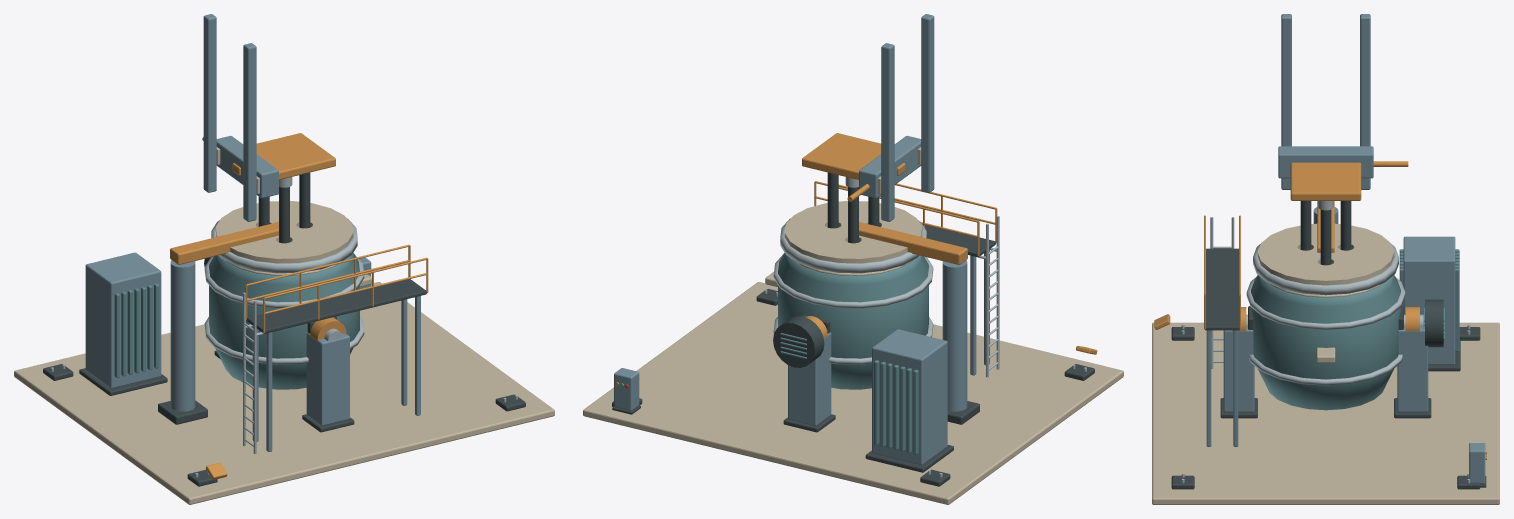
The model's file is STS-PLATE-02-lod1.glb.
The picture shows the model from 3 angles, left to right: view 1: azimuth 30°, elevation 25°; view 2: azimuth 150°, elevation 25°; view 3: azimuth 270°, elevation 25°; orthographic projection.
Visible parts, largest first — view 1: foundation, refractory_vessel, transformer_cabinet, roof_shell, roof_pivot_column, far_pedestal, eaf_service_deck, roof_electrode_guide_0.95, roof_electrode_guide_-0.95, electrode_carrier, roof_swing_arm, electrode_slide_carriage (+11 smaller); view 2: foundation, refractory_vessel, transformer_cabinet, roof_shell, roof_pivot_column, near_pedestal, roof_electrode_guide_-0.95, roof_electrode_guide_0.95, electrode_carrier, tilt_gearbox, roof_swing_arm, roof_water_jacket (+7 smaller); view 3: foundation, refractory_vessel, roof_shell, transformer_cabinet, electrode_carrier, eaf_service_deck, near_pedestal, far_pedestal, electrode_slide_carriage, roof_water_jacket, roof_electrode_guide_-0.95, roof_electrode_guide_0.95 (+10 smaller).
Part boxes in pixels (x1,y1,x2,y2): foundation: (14, 282, 554, 504); refractory_vessel: (209, 253, 359, 389); transformer_cabinet: (85, 252, 161, 388); roof_shell: (215, 201, 353, 263); roof_pivot_column: (170, 260, 195, 411); far_pedestal: (306, 332, 349, 425); eaf_service_deck: (246, 279, 426, 333); roof_electrode_guide_0.95: (243, 43, 256, 221); roof_electrode_guide_-0.95: (203, 14, 216, 192); electrode_carrier: (256, 133, 335, 179); roof_swing_arm: (170, 222, 278, 264); electrode_slide_carriage: (216, 135, 278, 198); foundation: (583, 282, 1123, 504); refractory_vessel: (778, 253, 928, 389); transformer_cabinet: (872, 329, 947, 465); roof_shell: (784, 201, 922, 263); roof_pivot_column: (942, 260, 967, 411); near_pedestal: (788, 332, 831, 425); roof_electrode_guide_-0.95: (881, 43, 894, 221); roof_electrode_guide_0.95: (921, 14, 934, 192); electrode_carrier: (802, 133, 881, 179); tilt_gearbox: (773, 316, 824, 367); roof_swing_arm: (859, 222, 967, 264); roof_water_jacket: (780, 218, 926, 273); foundation: (1152, 322, 1499, 504); refractory_vessel: (1251, 275, 1400, 410); roof_shell: (1257, 223, 1394, 285); transformer_cabinet: (1403, 236, 1455, 364); electrode_carrier: (1290, 162, 1361, 200); eaf_service_deck: (1205, 248, 1239, 330); near_pedestal: (1397, 327, 1428, 412); far_pedestal: (1223, 327, 1254, 412); electrode_slide_carriage: (1278, 146, 1373, 178); roof_water_jacket: (1253, 244, 1398, 295); roof_electrode_guide_-0.95: (1360, 14, 1370, 189); roof_electrode_guide_0.95: (1281, 14, 1291, 189).
Bounding box in the file's own units: 10.1 × 10.02 × 8.4.
